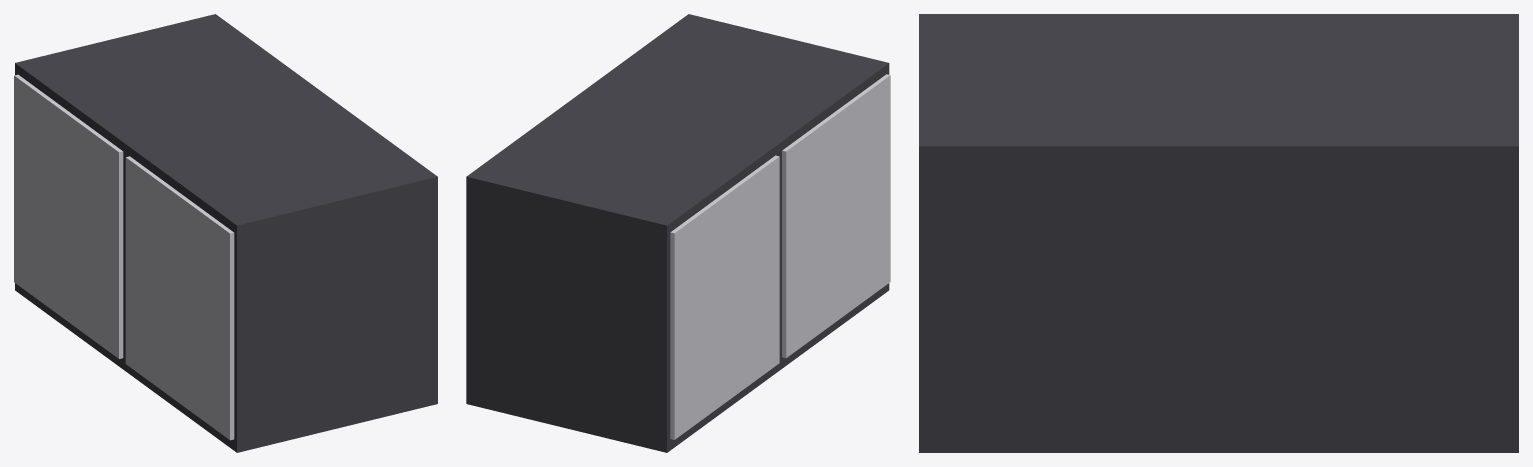
The model's file is drawer3 textured.fbx.
3 views of the same model, side by side, from view 1: azimuth 30°, elevation 25°; view 2: azimuth 150°, elevation 25°; view 3: azimuth 270°, elevation 25° (orthographic). The views are drawn at different scales.
Visible parts, largest first — view 1: drawer3 top, drawer3 right, Door 1.002, Door 2.002, drawer3 bottom, drawer3 middle; view 2: drawer3 top, drawer3 left, Door 1.002, Door 2.002, drawer3 bottom, drawer3 middle; view 3: drawer3 back, drawer3 top, drawer3 bottom, drawer3 left, drawer3 right.
Part boxes in pixels (<box>): drawer3 top: <box>15,14,437,235</box>; drawer3 right: <box>234,186,437,441</box>; Door 1.002: <box>14,74,123,358</box>; Door 2.002: <box>125,156,234,440</box>; drawer3 bottom: <box>15,283,437,452</box>; drawer3 middle: <box>123,152,128,359</box>; drawer3 top: <box>466,14,889,235</box>; drawer3 left: <box>466,186,670,441</box>; Door 1.002: <box>670,155,779,439</box>; Door 2.002: <box>782,74,890,358</box>; drawer3 bottom: <box>466,283,889,452</box>; drawer3 middle: <box>776,151,781,358</box>; drawer3 back: <box>934,159,1503,437</box>; drawer3 top: <box>919,14,1518,159</box>; drawer3 bottom: <box>919,437,1518,452</box>; drawer3 left: <box>1503,159,1518,437</box>; drawer3 right: <box>919,159,934,437</box>.
Bounding box in the file's own units: 745 × 791 × 1401.
